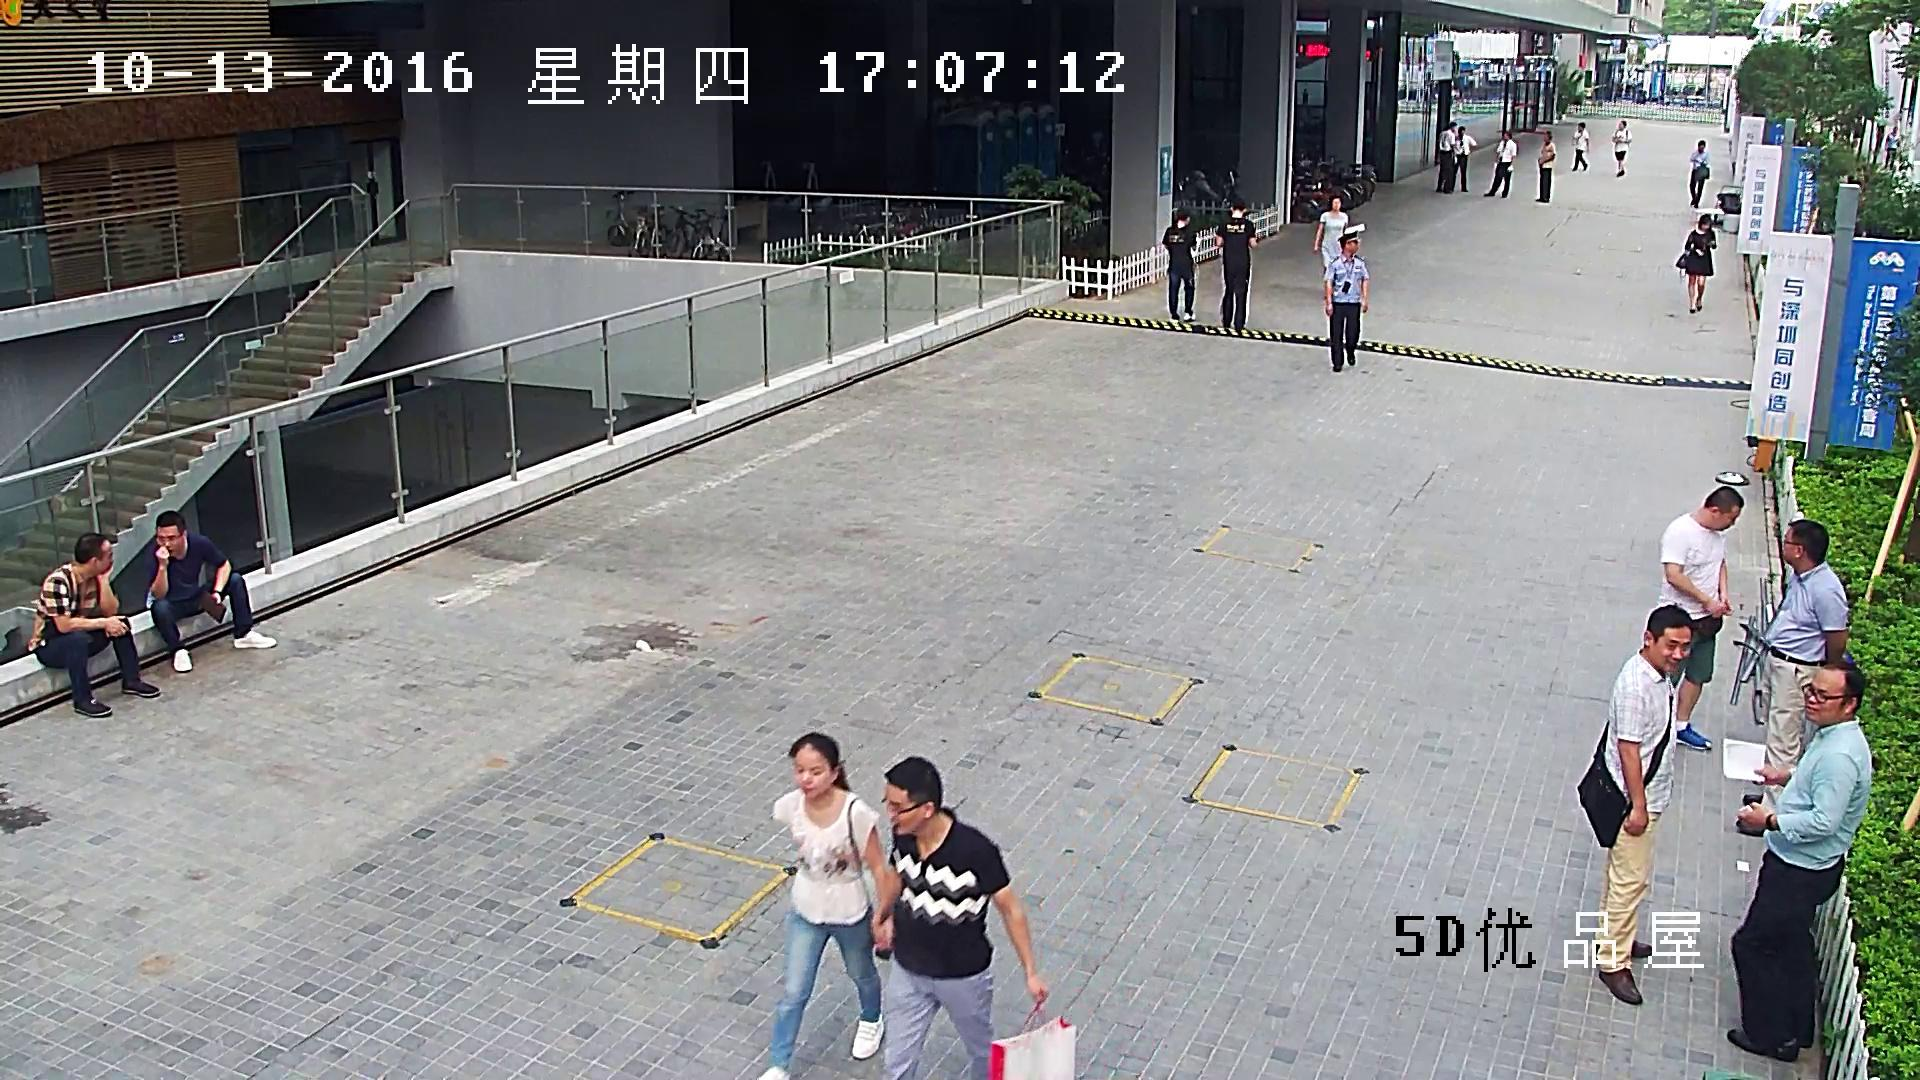person: (871, 754, 1078, 1080), (1725, 659, 1874, 1064), (1574, 603, 1696, 1006), (757, 731, 894, 1080), (1735, 519, 1850, 840), (26, 531, 161, 718), (1656, 484, 1746, 750), (144, 509, 278, 673), (1325, 230, 1369, 372), (1313, 196, 1366, 306), (1216, 198, 1256, 330), (1675, 212, 1717, 313), (1161, 209, 1196, 322), (1482, 131, 1517, 198), (1435, 121, 1460, 194), (1688, 140, 1712, 208), (1535, 131, 1556, 203), (1453, 126, 1476, 192), (1611, 119, 1631, 177), (1571, 121, 1589, 172), (1884, 126, 1899, 168)
